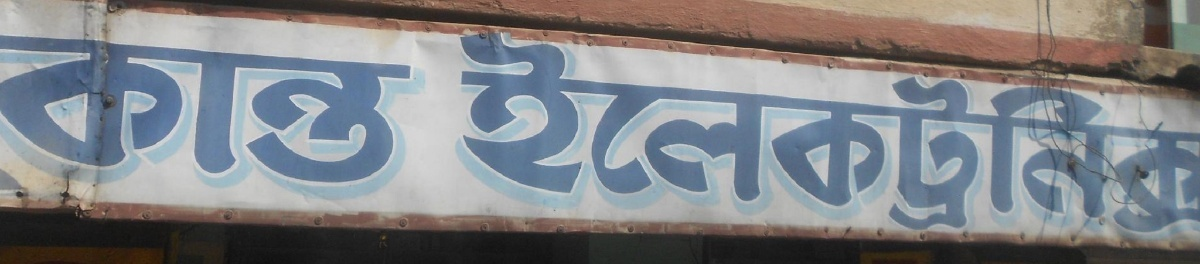text: (465, 31, 480, 247), (481, 31, 496, 247), (497, 31, 512, 247), (513, 31, 528, 247), (529, 31, 544, 247), (545, 31, 560, 247), (561, 31, 576, 247), (577, 31, 592, 247), (593, 31, 608, 247), (609, 31, 624, 247), (625, 31, 640, 247), (641, 31, 656, 247), (657, 31, 672, 247), (673, 31, 688, 247), (689, 31, 704, 247), (705, 31, 720, 247), (721, 31, 736, 247), (737, 31, 752, 247), (753, 31, 768, 247), (769, 31, 784, 247), (785, 31, 800, 247), (801, 31, 816, 247), (817, 31, 832, 247), (833, 31, 848, 247), (849, 31, 864, 247), (865, 31, 880, 247), (881, 31, 896, 247), (897, 31, 912, 247), (913, 31, 928, 247), (929, 31, 944, 247), (945, 31, 960, 247), (961, 31, 976, 247), (977, 31, 992, 247), (993, 31, 1008, 247), (1009, 31, 1024, 247), (1025, 31, 1040, 247), (1041, 31, 1056, 247), (1057, 31, 1072, 247), (1073, 31, 1088, 247), (1089, 31, 1104, 247), (1105, 31, 1120, 247), (1121, 31, 1136, 247), (1137, 31, 1152, 247), (1153, 31, 1168, 247), (1169, 31, 1184, 247), (1185, 31, 1199, 247), (1, 35, 16, 212), (17, 35, 32, 212), (33, 35, 48, 212), (49, 35, 64, 212), (65, 35, 80, 212), (81, 35, 96, 212), (97, 35, 112, 212), (113, 35, 128, 212), (129, 35, 144, 212), (145, 35, 160, 212), (161, 35, 176, 212), (177, 35, 192, 212), (193, 35, 208, 212), (209, 35, 224, 212), (225, 35, 240, 212), (241, 35, 256, 212), (257, 35, 272, 212), (273, 35, 288, 212), (289, 35, 304, 212), (305, 35, 320, 212), (321, 35, 336, 212), (337, 35, 352, 212), (353, 35, 368, 212), (369, 35, 384, 212), (385, 35, 400, 212), (401, 35, 416, 212), (457, 31, 464, 247), (417, 35, 424, 212)
